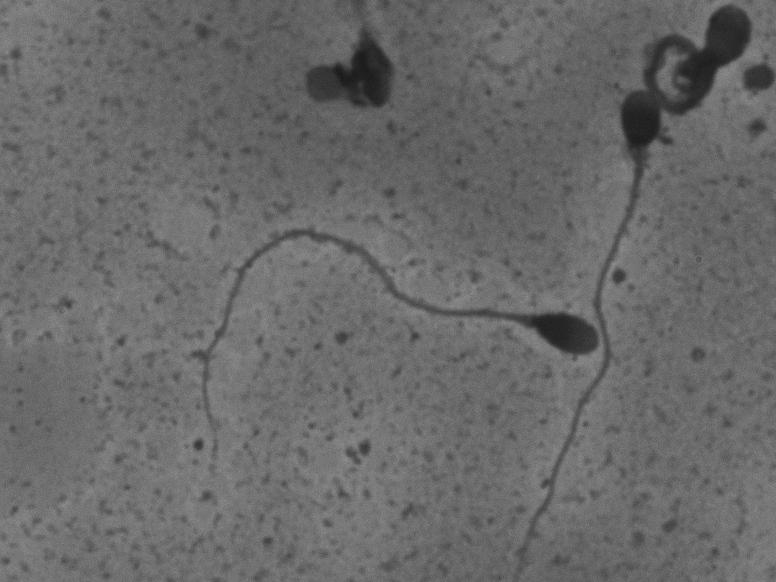Abnormal: (652, 0, 767, 101)
Normal: (191, 218, 601, 471), (510, 81, 669, 570)
